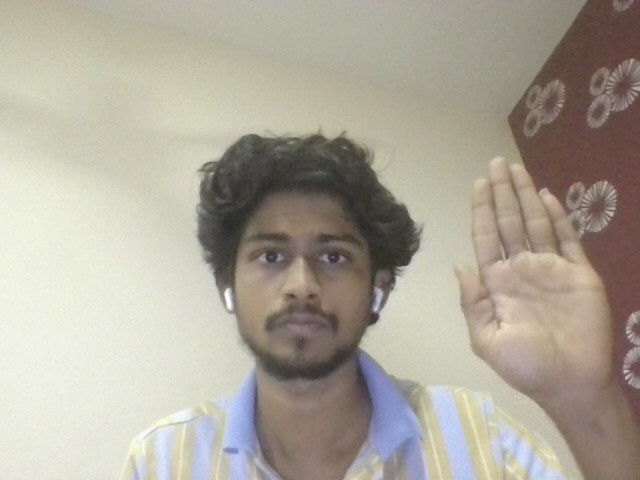hello: (446, 153, 629, 372)
